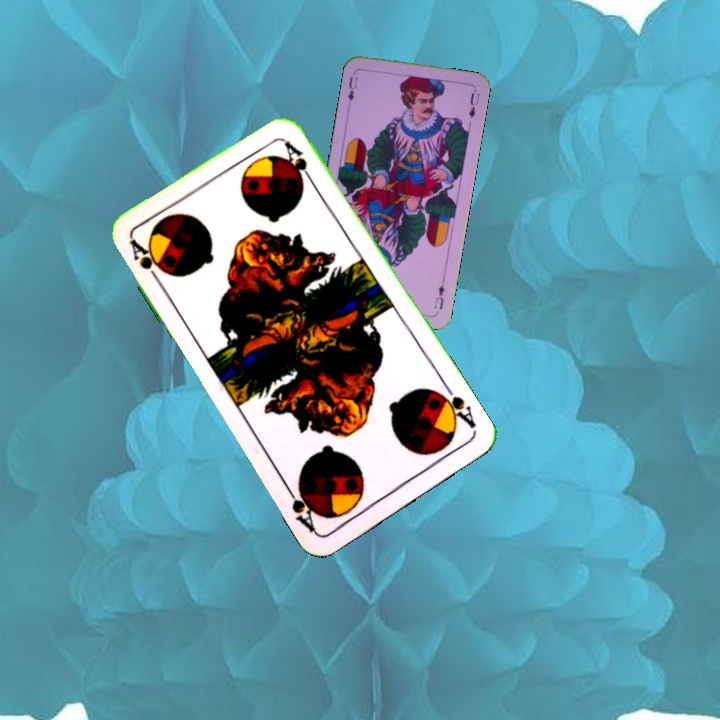EU: (430, 280, 447, 312), (344, 72, 360, 104)
SA: (432, 381, 479, 434), (126, 235, 169, 289)
